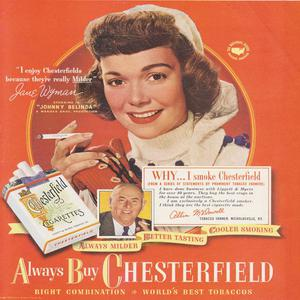cigarette: (36, 131, 96, 140), (140, 219, 153, 230)
